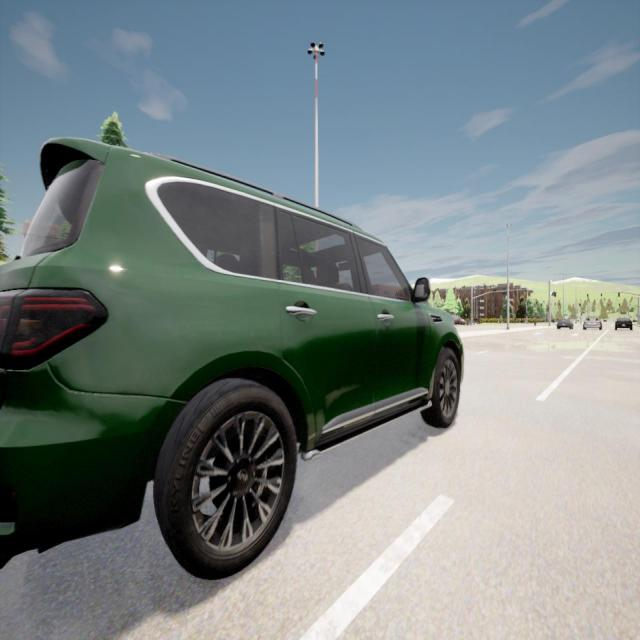Pedestrian: (533, 315, 537, 327), (513, 315, 516, 324), (526, 315, 528, 326), (520, 316, 522, 324)
Vehicle: (1, 136, 463, 576), (583, 316, 602, 331), (615, 316, 632, 330), (556, 318, 574, 330), (453, 314, 466, 324)
traffic_light: (587, 294, 589, 300), (600, 293, 602, 299), (618, 292, 620, 298)
